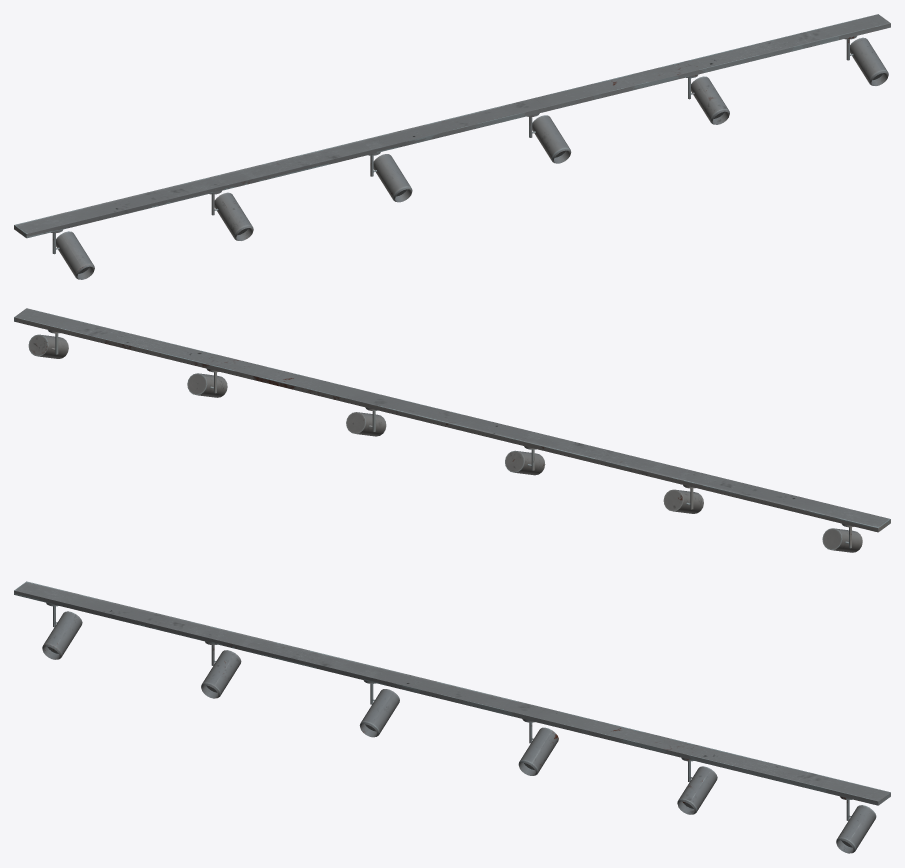
File: Lampu Sorot.fbx
3 renders of one model, top to bottom at view 1: azimuth 30°, elevation 25°; view 2: azimuth 150°, elevation 25°; view 3: azimuth 330°, elevation 25°, orthographic.
Visible parts, largest first — view 1: LampuSotor_Base, LampuSorot_3, LampuSorot_4, LampuSorot_2, LampuSorot_5, LampuSorot_1, LampuSorot_6, LampuSorot_Stand; view 2: LampuSotor_Base, LampuSorot_3, LampuSorot_4, LampuSorot_2, LampuSorot_6, LampuSorot_5, LampuSorot_1, LampuSorot_Stand; view 3: LampuSotor_Base, LampuSorot_5, LampuSorot_6, LampuSorot_1, LampuSorot_4, LampuSorot_2, LampuSorot_3, LampuSorot_Stand.
Boxes of the visible parts, <box> form: LampuSotor_Base: <box>14,14,890,238</box>; LampuSorot_3: <box>373,154,412,202</box>; LampuSorot_4: <box>532,115,571,163</box>; LampuSorot_2: <box>214,192,253,240</box>; LampuSorot_5: <box>691,76,729,124</box>; LampuSorot_1: <box>56,231,94,279</box>; LampuSorot_6: <box>850,37,888,85</box>; LampuSorot_Stand: <box>51,36,856,254</box>; LampuSotor_Base: <box>14,308,890,532</box>; LampuSorot_3: <box>505,450,545,475</box>; LampuSorot_4: <box>346,412,386,436</box>; LampuSorot_2: <box>663,489,703,513</box>; LampuSorot_6: <box>28,334,68,358</box>; LampuSorot_5: <box>187,373,227,397</box>; LampuSorot_1: <box>822,528,862,552</box>; LampuSorot_Stand: <box>48,330,854,548</box>; LampuSotor_Base: <box>14,581,890,805</box>; LampuSorot_5: <box>677,766,717,814</box>; LampuSorot_6: <box>836,805,876,853</box>; LampuSorot_1: <box>42,611,82,659</box>; LampuSorot_4: <box>518,727,558,775</box>; LampuSorot_2: <box>201,650,241,698</box>; LampuSorot_3: <box>359,689,399,737</box>; LampuSorot_Stand: <box>46,602,852,820</box>.
Bounding box in the file's own units: 1.5 × 0.0778 × 0.0844.
2 materials, 2 textured.
